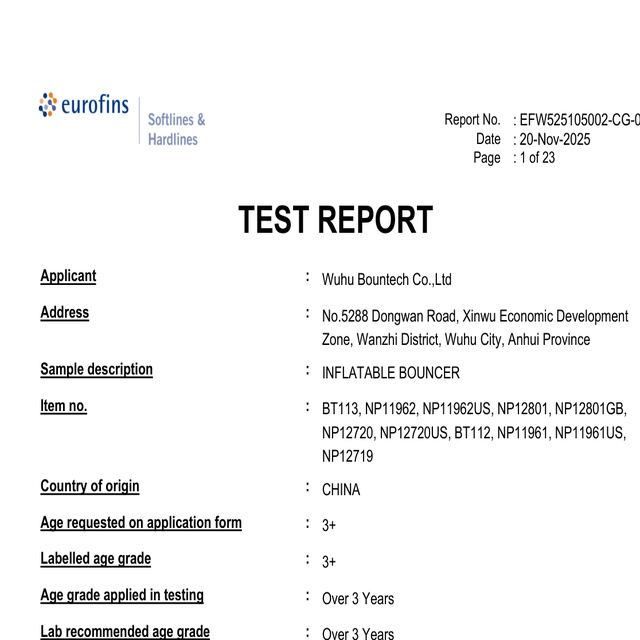eurofins: (32, 83, 135, 127)
